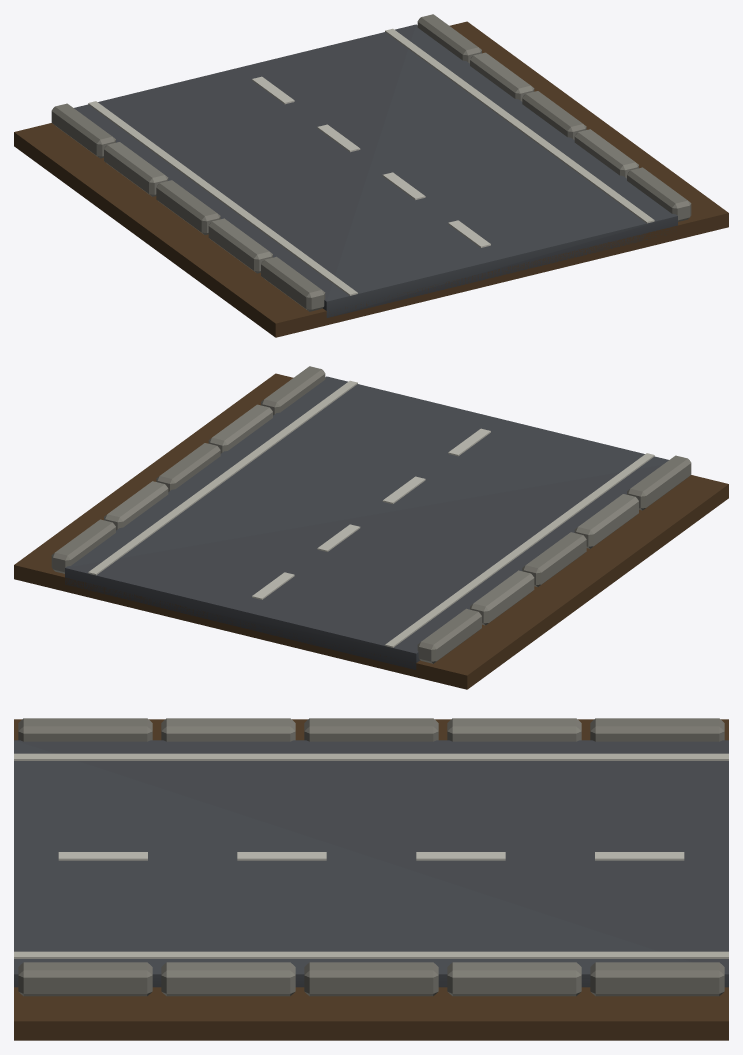
Rendered from road-straight-01.glb.
The picture shows the model from 3 angles, top to bottom: view 1: azimuth 30°, elevation 25°; view 2: azimuth 150°, elevation 25°; view 3: azimuth 270°, elevation 25°; orthographic projection. The views are drawn at different scales.
Visible parts, largest first — view 1: road_straight_01; view 2: road_straight_01; view 3: road_straight_01.
Part boxes in pixels (x1,y1,x2,y2): road_straight_01: (14,14,728,337); road_straight_01: (14,366,728,689); road_straight_01: (14,718,728,1040).
Size of the model in its own units: 4 by 0.28 by 4.
